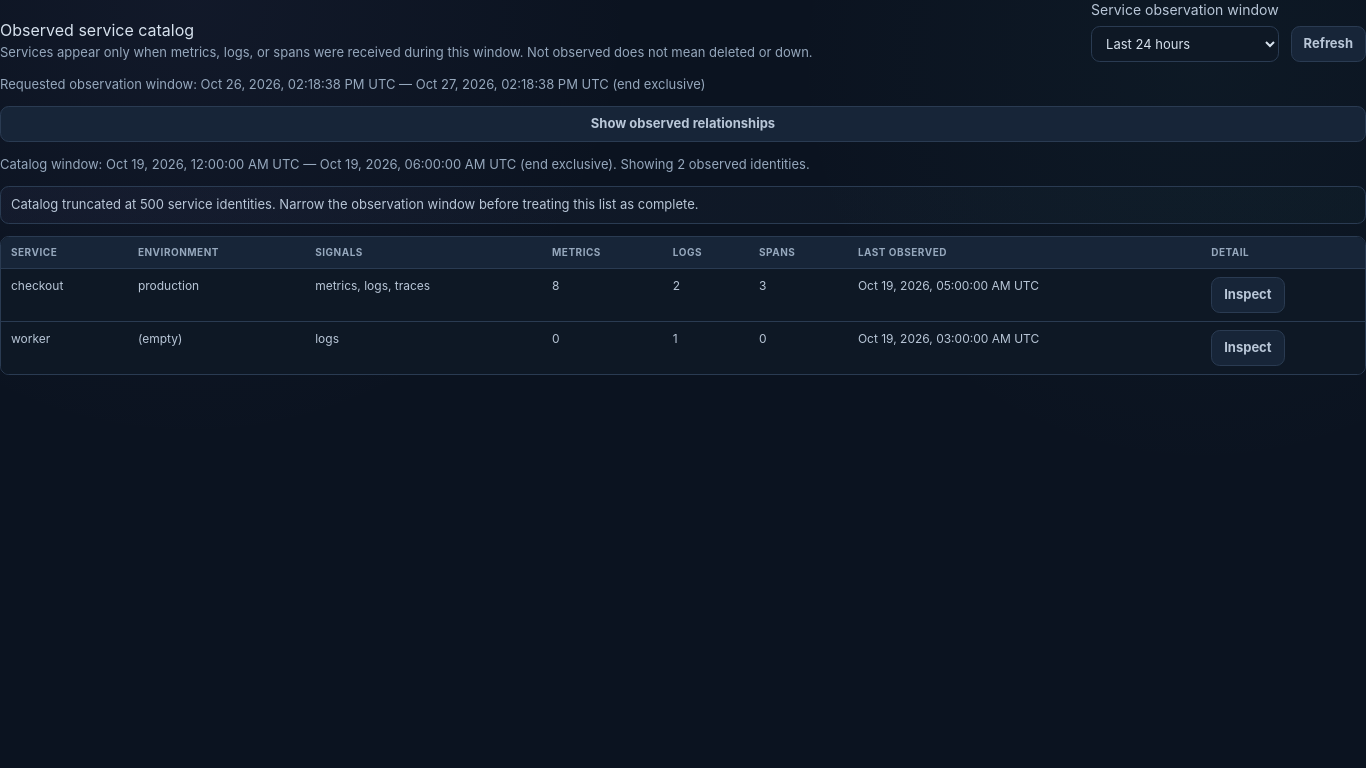
ServicesWorkspace › warns for truncated catalog and does not claim a missing detail is down
The width and height of the screenshot is (1366, 768).
Expected: the text "Catalog truncated at 500" is shown, [0, 186, 1365, 224]
Click the button with aria-label "Inspect worker, environment empty": (1248, 348) [1211, 330, 1285, 366]
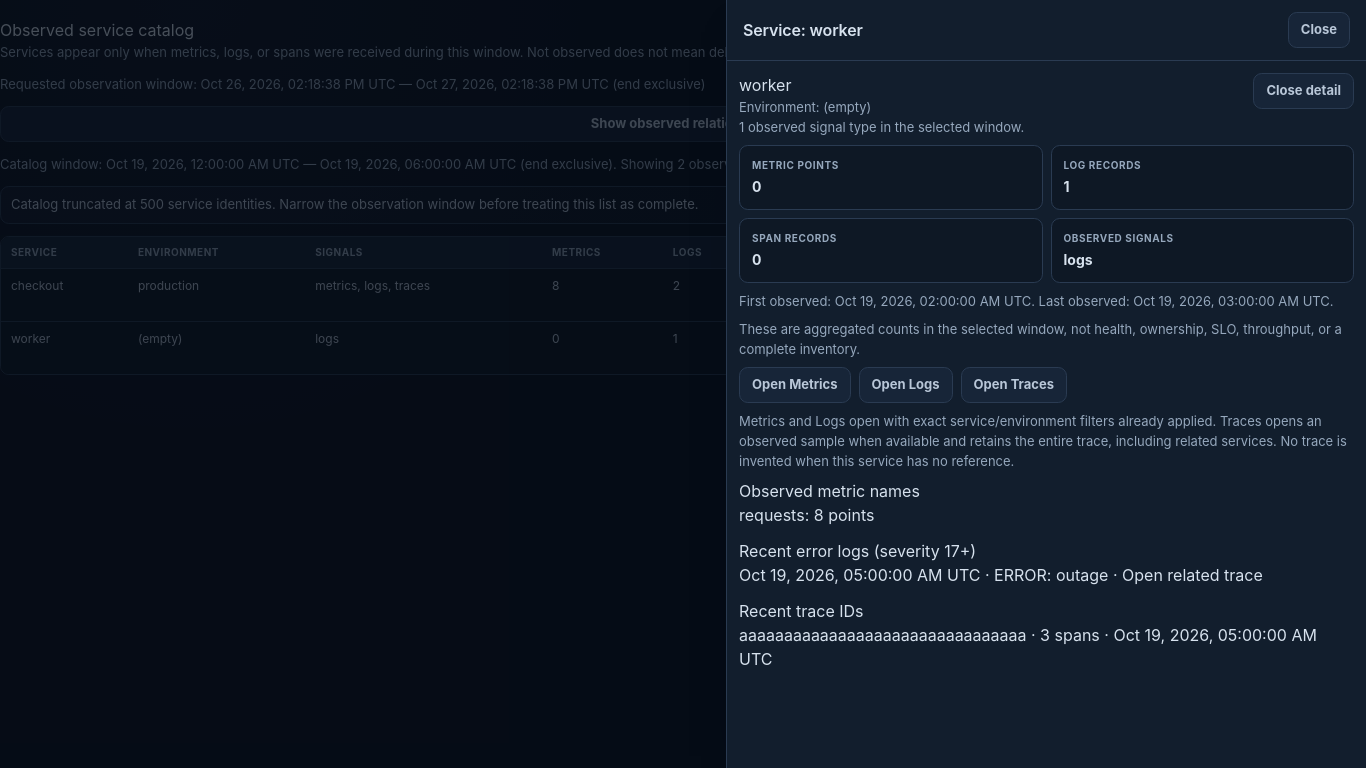
Now the text "Environment: (empty)" is shown, box [739, 99, 871, 115]
